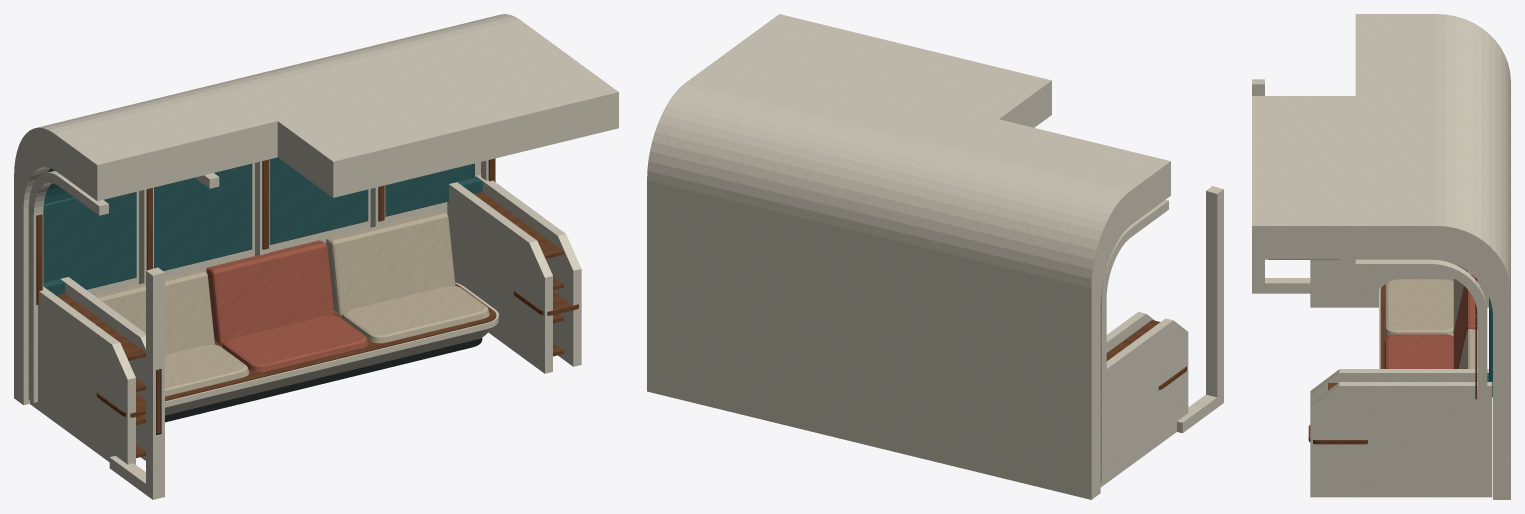
Rendered from AST-SAL-003.glb.
3 renders of one model, left to right at view 1: azimuth 30°, elevation 25°; view 2: azimuth 150°, elevation 25°; view 3: azimuth 270°, elevation 25°, orthographic. The views are drawn at different scales.
Parts seen in each view (by area): view 1: AST-SAL-003__ivory_enamel, AST-SAL-003__teal_weave, AST-SAL-003__oatmeal_weave, AST-SAL-003__clay_weave, AST-SAL-003__warm_walnut, AST-SAL-003__dark_rubber; view 2: AST-SAL-003__ivory_enamel, AST-SAL-003__warm_walnut; view 3: AST-SAL-003__ivory_enamel, AST-SAL-003__oatmeal_weave, AST-SAL-003__clay_weave, AST-SAL-003__warm_walnut, AST-SAL-003__teal_weave.
Boxes of the visible parts, box(x1,y1,x2,y2) form: AST-SAL-003__ivory_enamel: box(14, 14, 618, 499); AST-SAL-003__teal_weave: box(43, 157, 482, 295); AST-SAL-003__oatmeal_weave: box(94, 211, 489, 396); AST-SAL-003__clay_weave: box(206, 240, 368, 372); AST-SAL-003__warm_walnut: box(36, 158, 578, 458); AST-SAL-003__dark_rubber: box(156, 337, 482, 435); AST-SAL-003__ivory_enamel: box(647, 14, 1223, 499); AST-SAL-003__warm_walnut: box(1106, 320, 1186, 390); AST-SAL-003__ivory_enamel: box(1252, 14, 1510, 499); AST-SAL-003__oatmeal_weave: box(1384, 265, 1477, 368); AST-SAL-003__clay_weave: box(1384, 274, 1477, 368); AST-SAL-003__warm_walnut: box(1268, 259, 1476, 444); AST-SAL-003__teal_weave: box(1487, 297, 1492, 396).
Bounding box in the file's own units: 6.2 × 3.74 × 3.2.
Materials: 7 (7 with a texture image).
